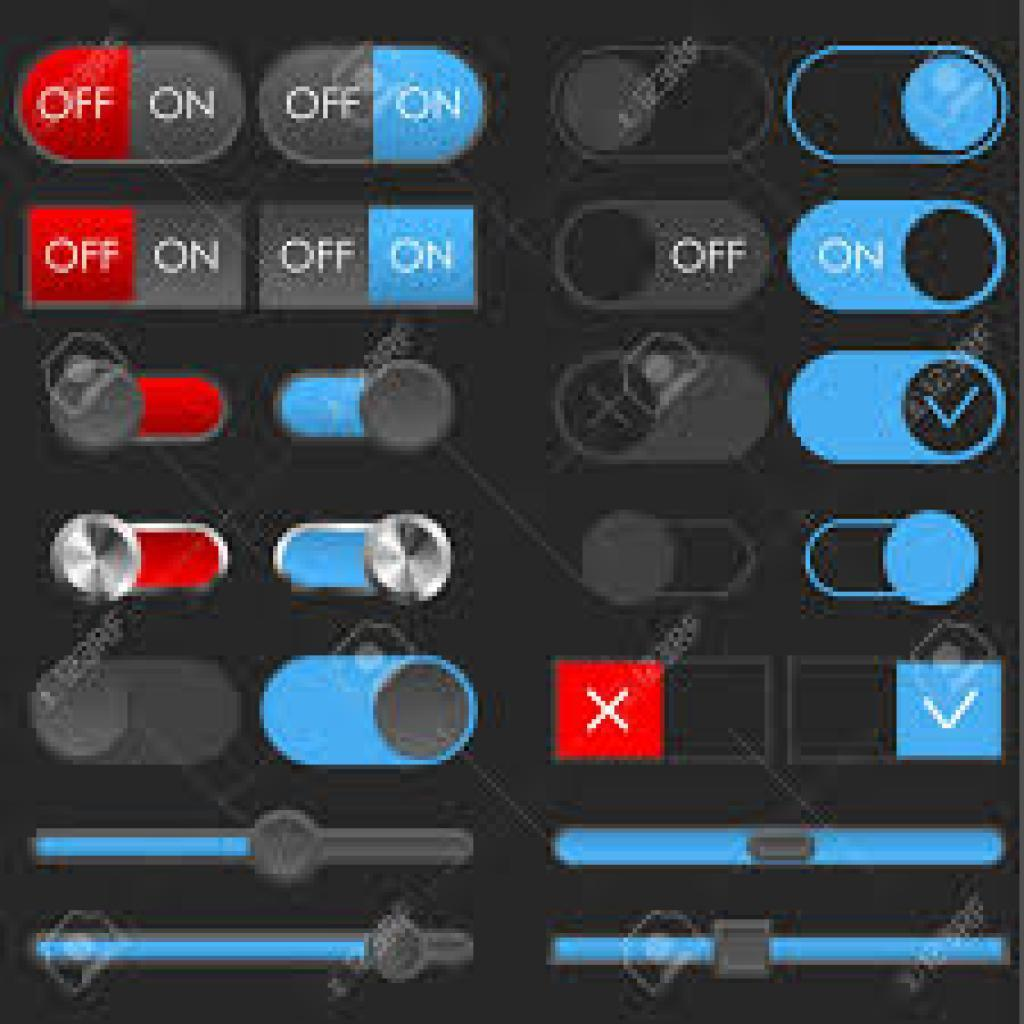slider: (25, 810, 473, 887), (550, 814, 1012, 883), (25, 916, 478, 985), (546, 922, 1013, 984)
switch: (547, 46, 778, 168), (15, 48, 248, 168), (260, 43, 485, 166), (787, 46, 1009, 165), (785, 351, 1006, 465), (554, 350, 769, 466), (788, 204, 1009, 314), (261, 657, 479, 767), (555, 201, 772, 309), (555, 658, 774, 764), (259, 203, 479, 308), (23, 206, 242, 309), (31, 664, 241, 768), (788, 658, 1006, 758), (805, 505, 978, 607), (270, 514, 453, 608), (277, 361, 456, 455), (585, 511, 757, 607), (52, 362, 231, 454), (50, 514, 230, 604)
